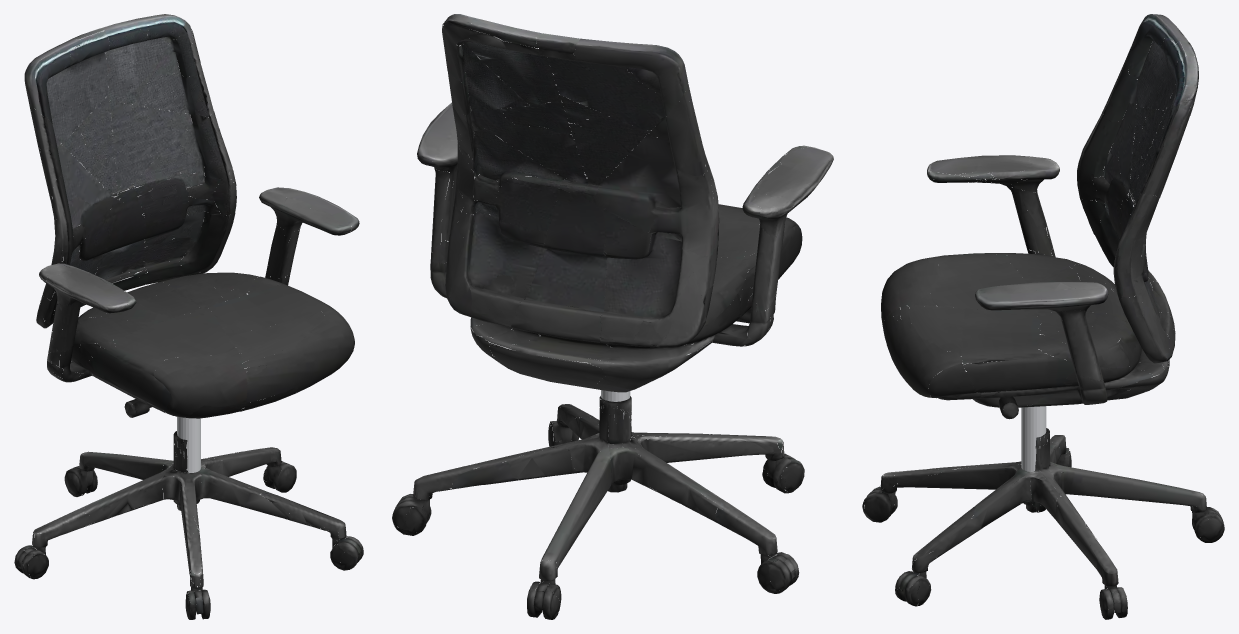
The model's file is chair-m.gltf.
The picture shows the model from 3 angles, left to right: view 1: azimuth 30°, elevation 25°; view 2: azimuth 150°, elevation 25°; view 3: azimuth 270°, elevation 25°; orthographic projection. The views are drawn at different scales.
Parts seen in each view (by area): view 1: chair_top, meshes[0], chair_lift; view 2: chair_top, meshes[0]; view 3: chair_top, meshes[0], chair_lift.
Boxes of the visible parts, <box> form: chair_top: <box>24,14,359,448</box>; meshes[0]: <box>14,444,363,619</box>; chair_lift: <box>177,416,200,473</box>; chair_top: <box>417,14,833,415</box>; meshes[0]: <box>392,404,804,619</box>; chair_top: <box>881,14,1198,446</box>; meshes[0]: <box>862,435,1224,619</box>; chair_lift: <box>1021,405,1046,494</box>.
Size of the model in its own units: 0.6364 by 0.9261 by 0.6205.
2 materials, 1 textured.
